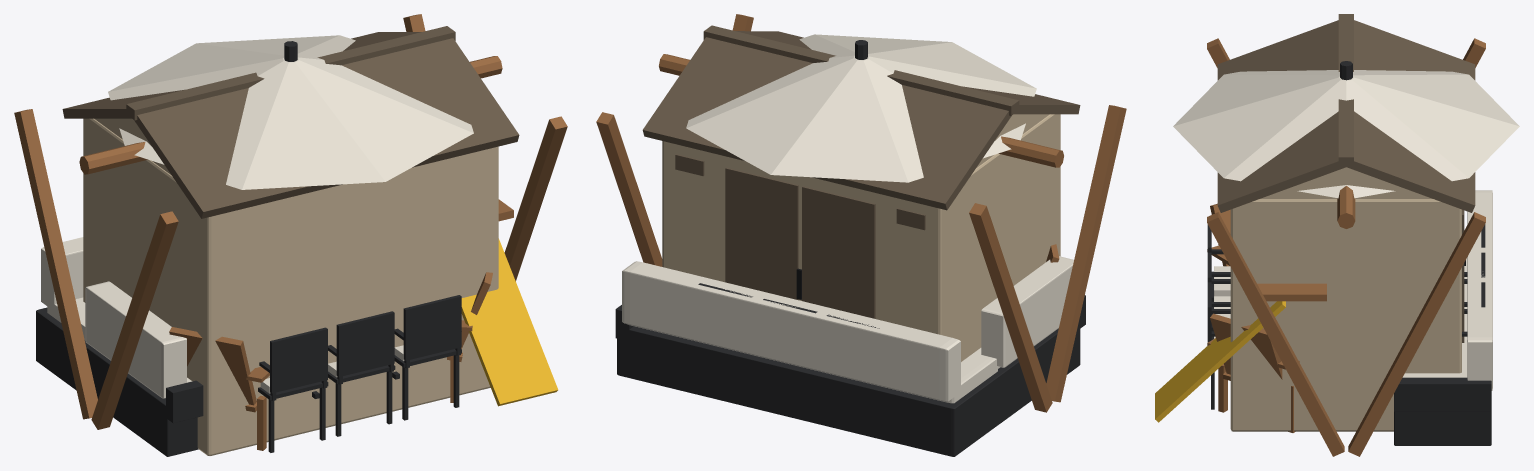
The model's file is yard-kit.glb.
3 views of the same model, side by side, from view 1: azimuth 30°, elevation 25°; view 2: azimuth 150°, elevation 25°; view 3: azimuth 270°, elevation 25° (orthographic). The views are drawn at different scales.
Visible parts, largest first — view 1: shed, umbrella, swing-set, sofa-set, dining-set, fire-pit; view 2: shed, sofa-set, umbrella, swing-set; view 3: shed, umbrella, swing-set, sofa-set, dining-set, fire-pit.
Boxes of the visible parts, x1,y1,x2,y2 form: shed: (62, 26, 519, 455); umbrella: (108, 35, 473, 189); swing-set: (14, 14, 567, 429); sofa-set: (36, 237, 203, 456); dining-set: (258, 295, 461, 452); fire-pit: (169, 272, 492, 450); shed: (642, 25, 1080, 361); sofa-set: (615, 256, 1085, 456); umbrella: (686, 34, 1036, 182); swing-set: (596, 14, 1126, 412); shed: (1217, 14, 1475, 431); umbrella: (1173, 61, 1519, 198); swing-set: (1155, 38, 1485, 456); sofa-set: (1394, 190, 1492, 445); dining-set: (1207, 224, 1485, 409); fire-pit: (1207, 203, 1299, 432).
Size of the model in its own units: 3.4 by 2.61 by 2.84.
